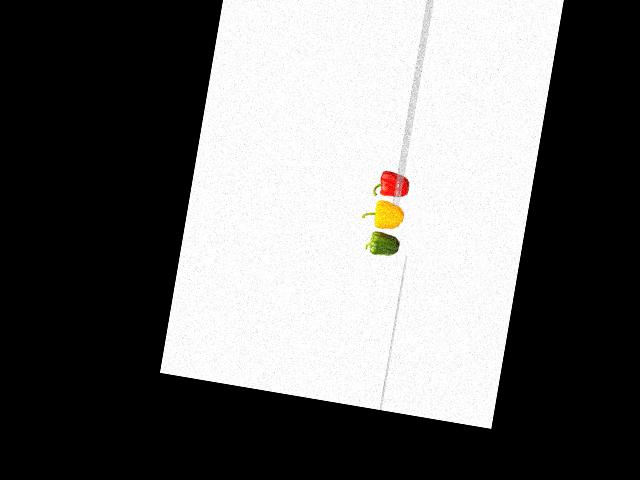bell_pepper: (358, 229, 403, 261)
